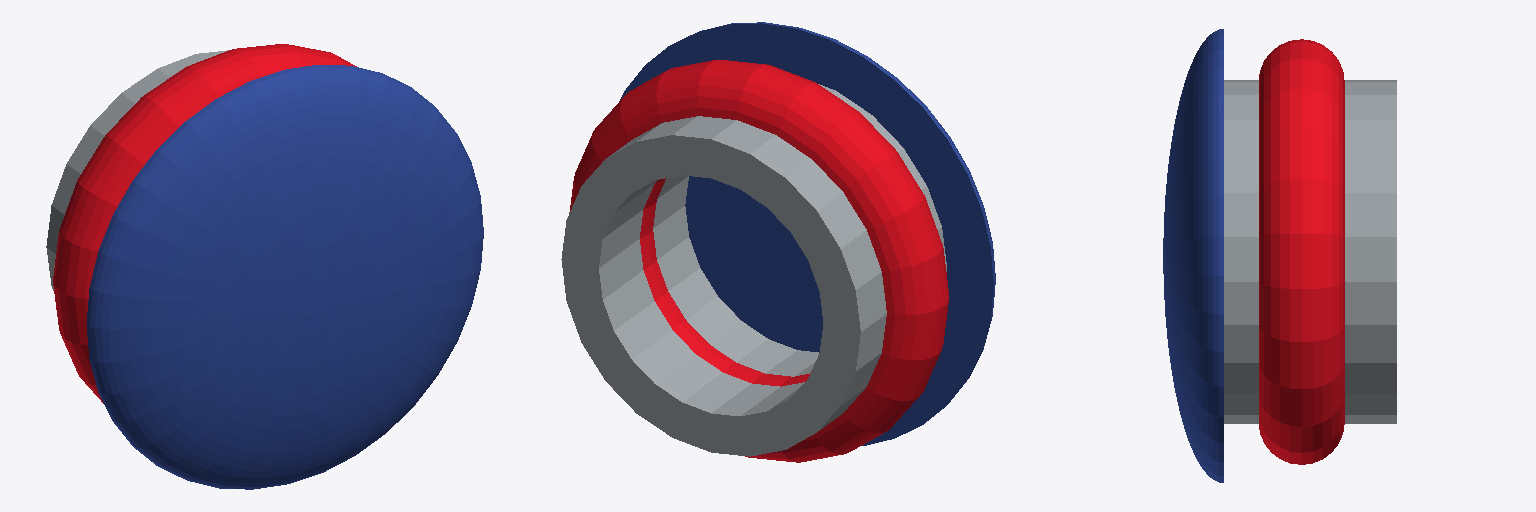
Rendered from bumper.obj.
3 views of the same model, side by side, from view 1: azimuth 30°, elevation 25°; view 2: azimuth 150°, elevation 25°; view 3: azimuth 270°, elevation 25° (orthographic).
Parts seen in each view (by area): view 1: obj_0; view 2: obj_0; view 3: obj_0.
Boxes of the visible parts, x1,y1,x2,y2 form: obj_0: [46, 44, 483, 489]; obj_0: [561, 22, 995, 462]; obj_0: [1163, 29, 1396, 482].
Bounding box in the file's own units: 26.4 × 26.4 × 13.5.